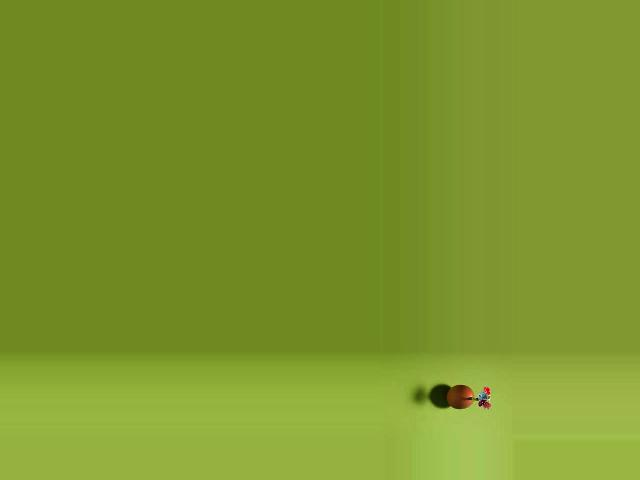egg: (446, 385, 474, 409)
